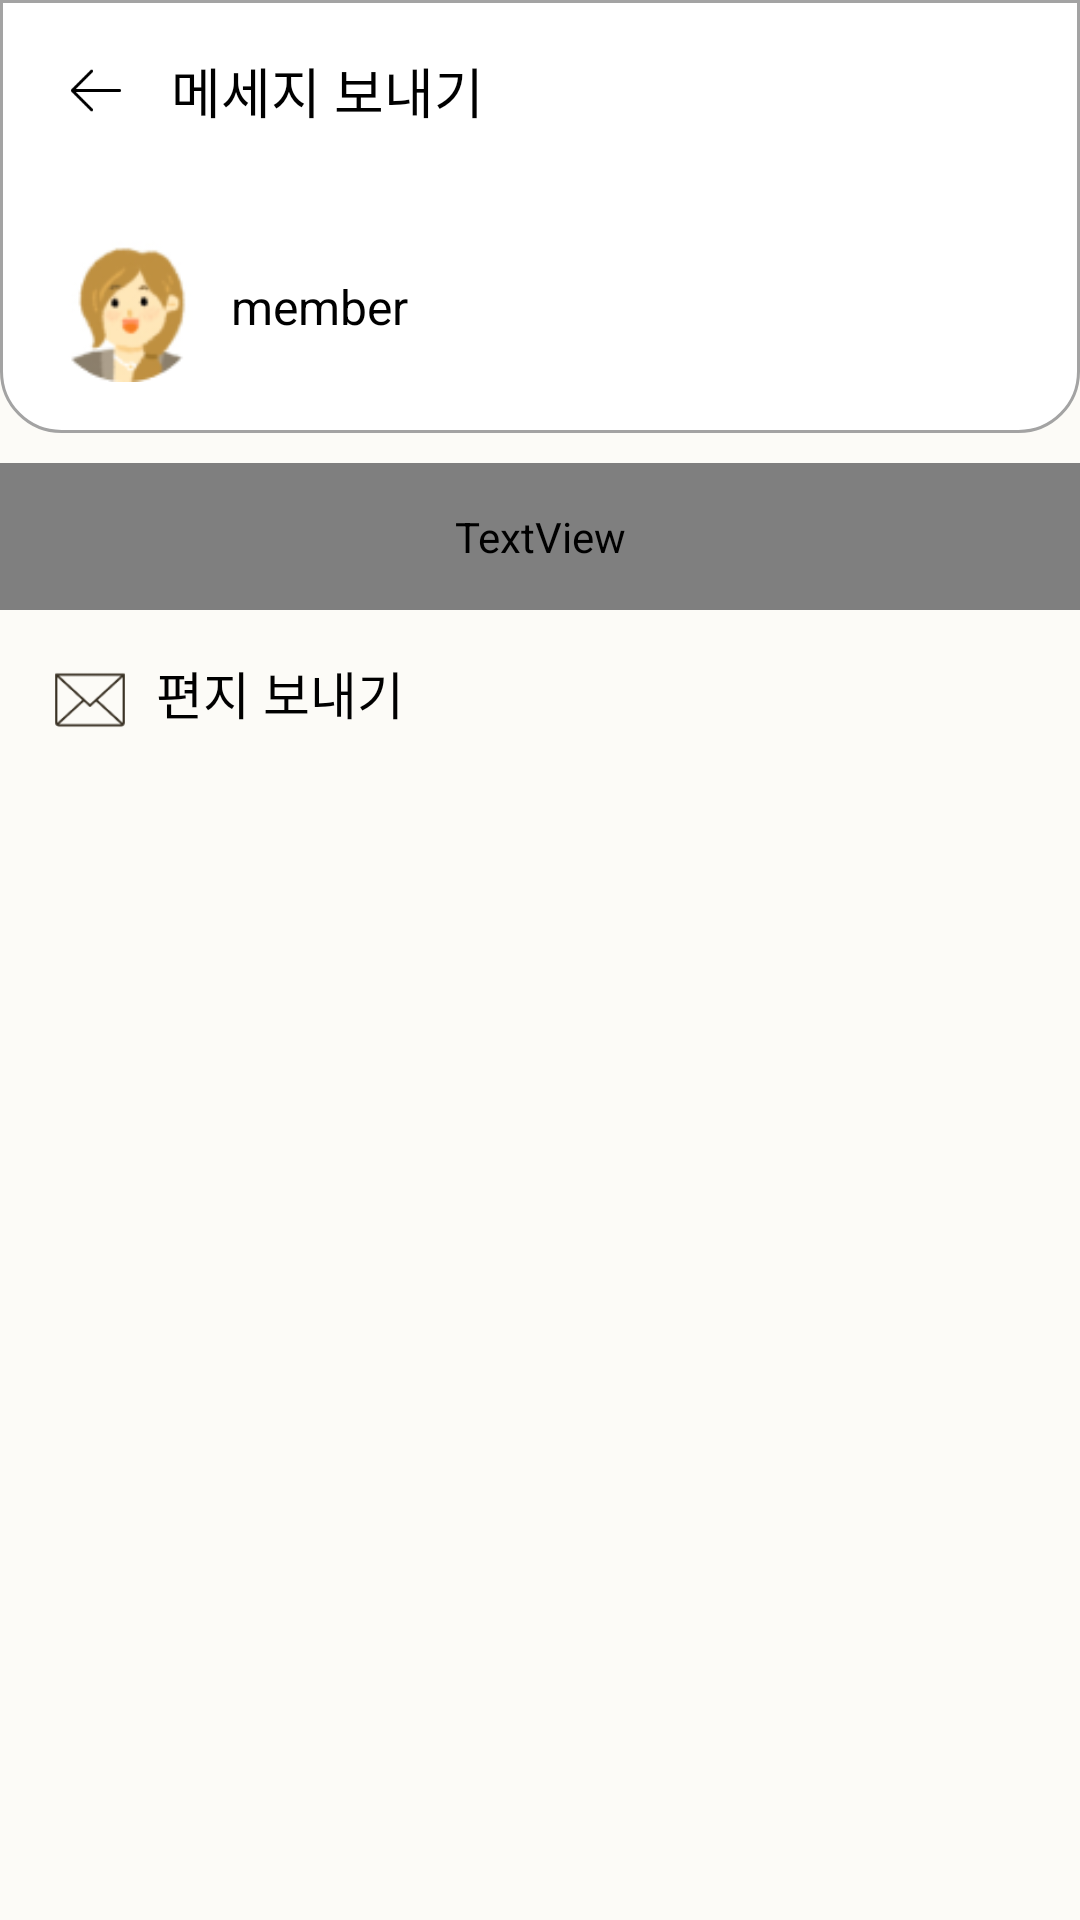

Icon click points for this 1080×1920 phone screenshot, format (x,y):
back: (96,90)
